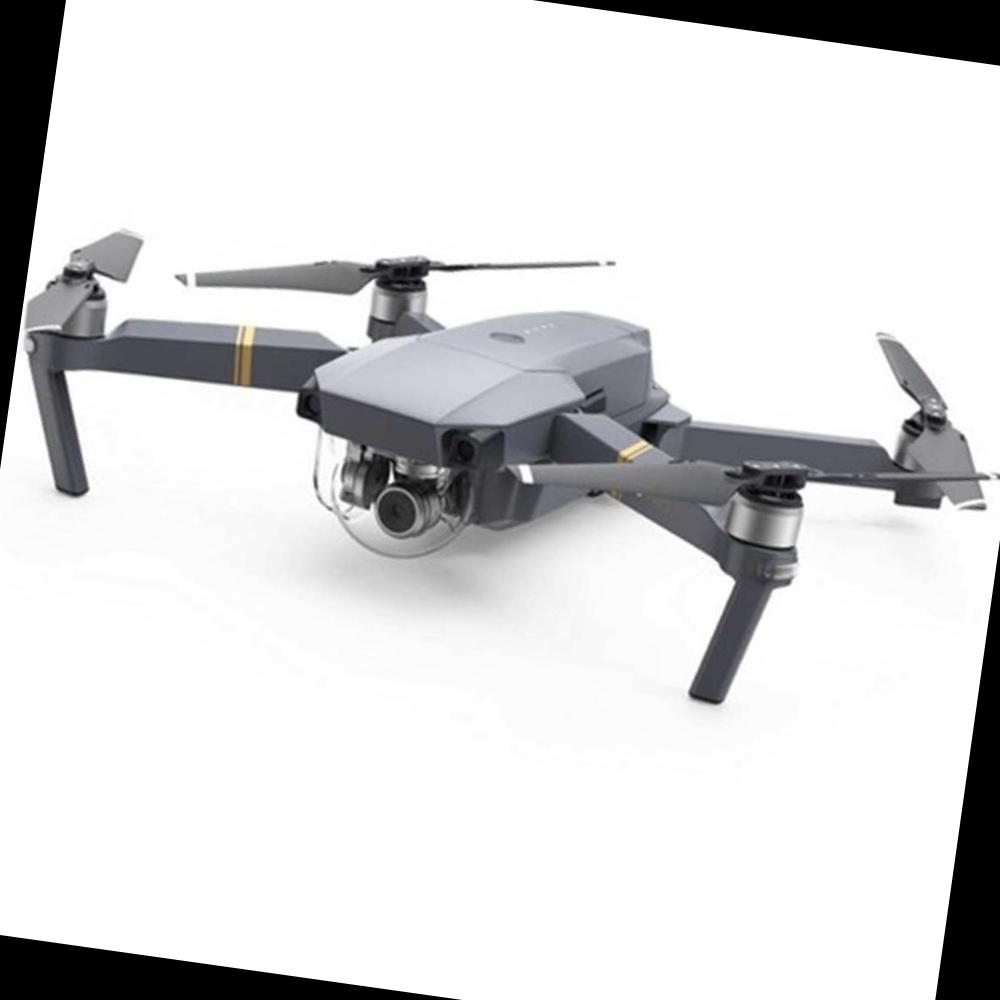drone: (0, 138, 1000, 756)
